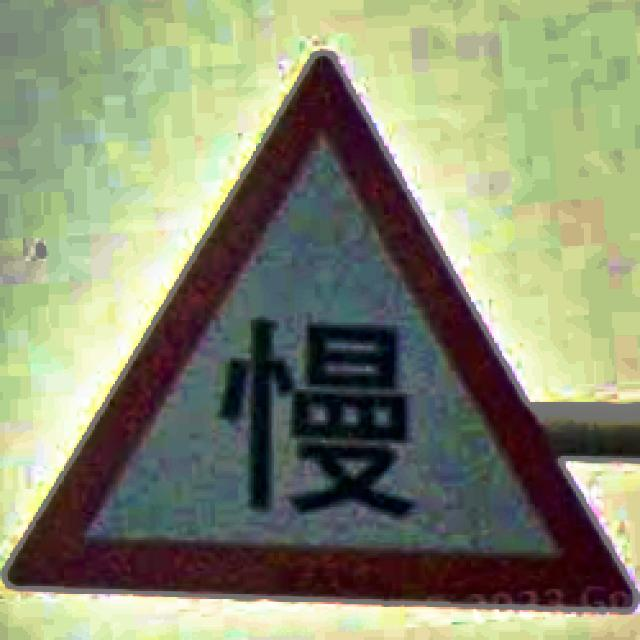slow: (5, 54, 636, 608)
